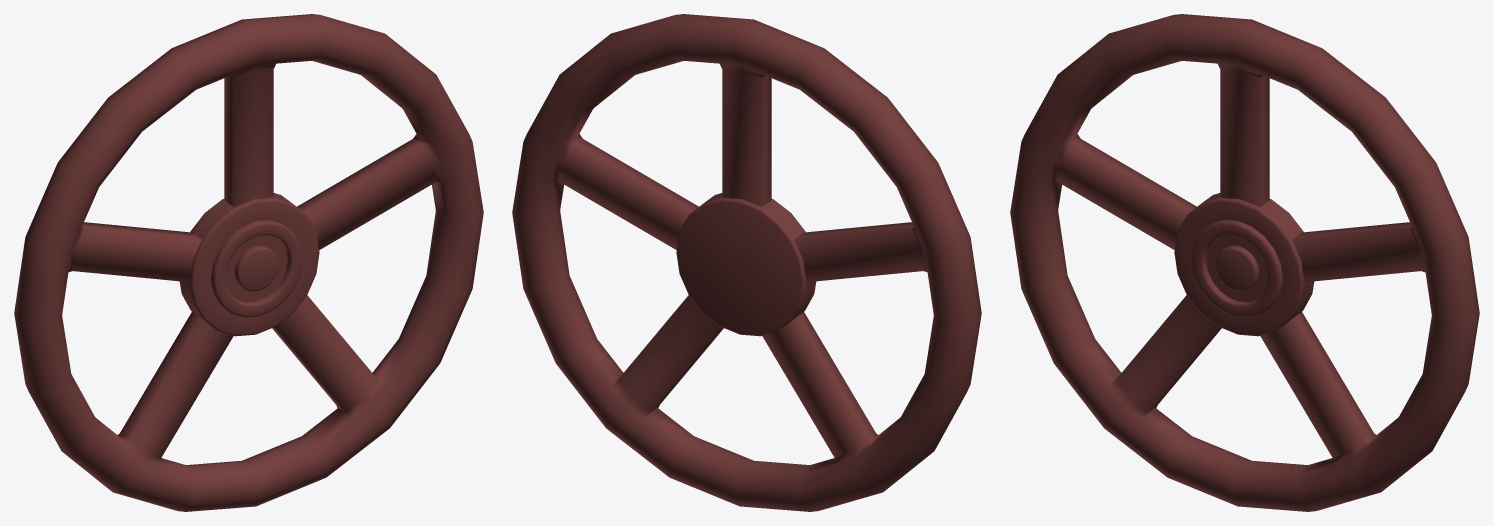
File: Test_Valve.fbx
3 renders of one model, left to right at view 1: azimuth 30°, elevation 25°; view 2: azimuth 150°, elevation 25°; view 3: azimuth 330°, elevation 25°, orthographic.
Parts seen in each view (by area): view 1: Torus; view 2: Torus; view 3: Torus.
Part boxes in pixels (x1,y1,x2,y2): Torus: [14, 14, 483, 511]; Torus: [512, 14, 981, 511]; Torus: [1010, 14, 1479, 511].
Size of the model in its own units: 54.37 by 54.37 by 4.66.
